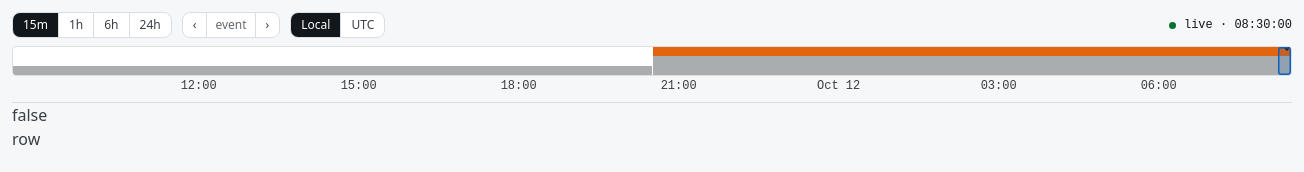
Test: the cursor › hops to an event inside the window without asking the server
Click the button "UTC" at (362, 25), box [340, 13, 384, 37]
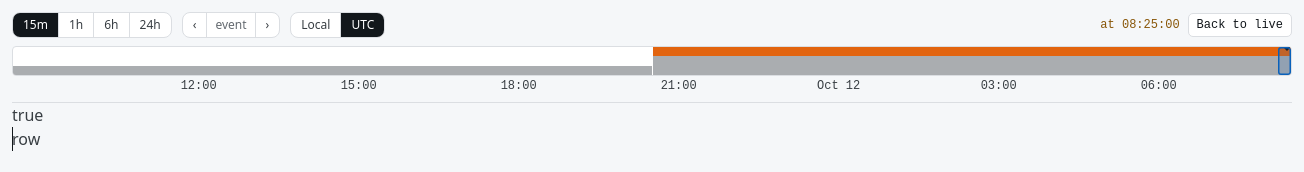
Result: the element showing "at 08:25:00 Back to live" is shown at [1100, 13, 1292, 37]
